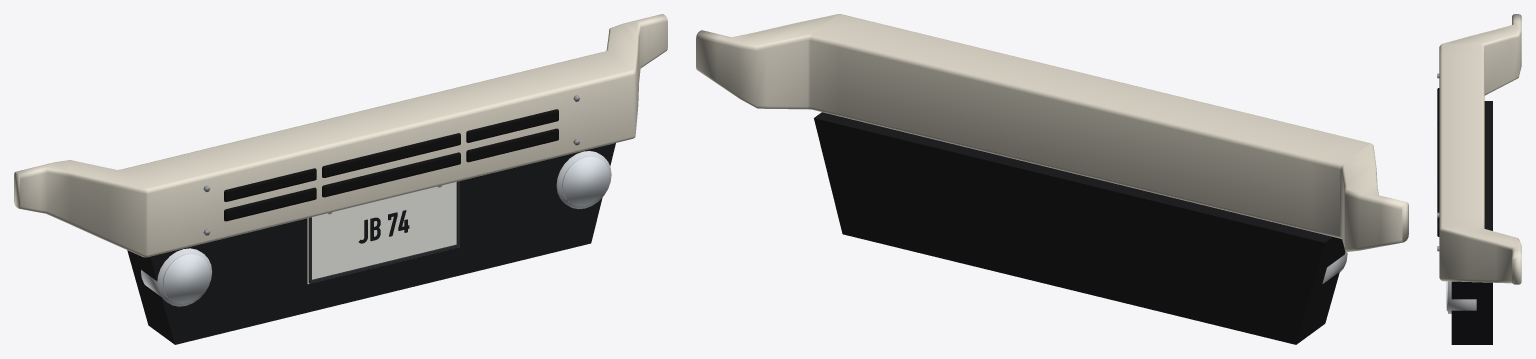
Rendered from frontBumper_damd_roots.glb.
3 renders of one model, left to right at view 1: azimuth 30°, elevation 25°; view 2: azimuth 150°, elevation 25°; view 3: azimuth 270°, elevation 25°, orthographic. The views are drawn at different scales.
Parts seen in each view (by area): view 1: beam.004, valance.020, plate.023, fogLens432, fogLens-432, slot6250, slot6650, slot665262, slot665-262, slot625-262, slot625262, fogHsg-432 (+3 smaller); view 2: beam.004, valance.020; view 3: beam.004, valance.020, fogHsg432, slot6650, slot665262, slot665-262.
Boxes of the visible parts, x1=… form: beam.004: x1=14, y1=14, x2=667, y2=257; valance.020: x1=127, y1=143, x2=615, y2=344; plate.023: x1=307, y1=182, x2=456, y2=284; fogLens432: x1=562, y1=156, x2=609, y2=206; fogLens-432: x1=162, y1=253, x2=209, y2=303; slot6250: x1=322, y1=152, x2=460, y2=197; slot6650: x1=322, y1=133, x2=460, y2=177; slot665262: x1=466, y1=109, x2=558, y2=142; slot665-262: x1=224, y1=168, x2=316, y2=201; slot625-262: x1=224, y1=187, x2=316, y2=221; slot625262: x1=466, y1=128, x2=558, y2=162; fogHsg-432: x1=141, y1=248, x2=211, y2=306; beam.004: x1=696, y1=14, x2=1408, y2=252; valance.020: x1=814, y1=112, x2=1345, y2=344; beam.004: x1=1439, y1=14, x2=1521, y2=284; valance.020: x1=1451, y1=101, x2=1492, y2=344; fogHsg432: x1=1448, y1=281, x2=1476, y2=313; slot6650: x1=1437, y1=125, x2=1439, y2=179; slot665262: x1=1437, y1=179, x2=1439, y2=221; slot665-262: x1=1437, y1=88, x2=1439, y2=125.
Bounding box in the file's own units: 1.4 × 0.35 × 0.205.
